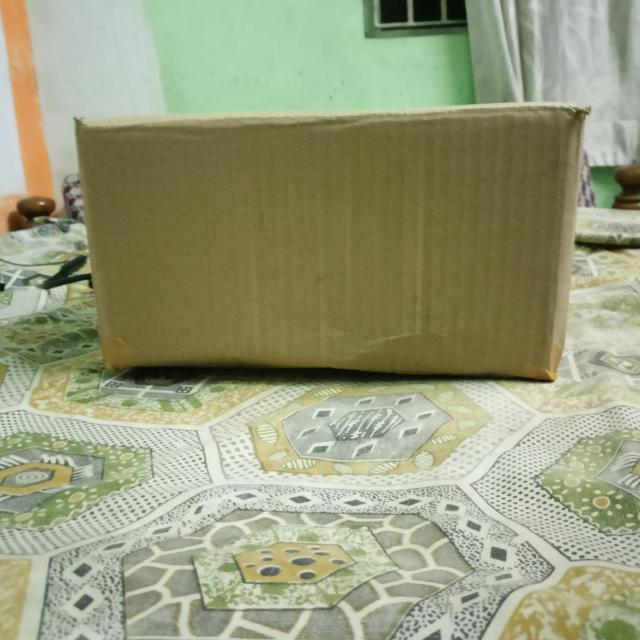box: (78, 110, 584, 382)
